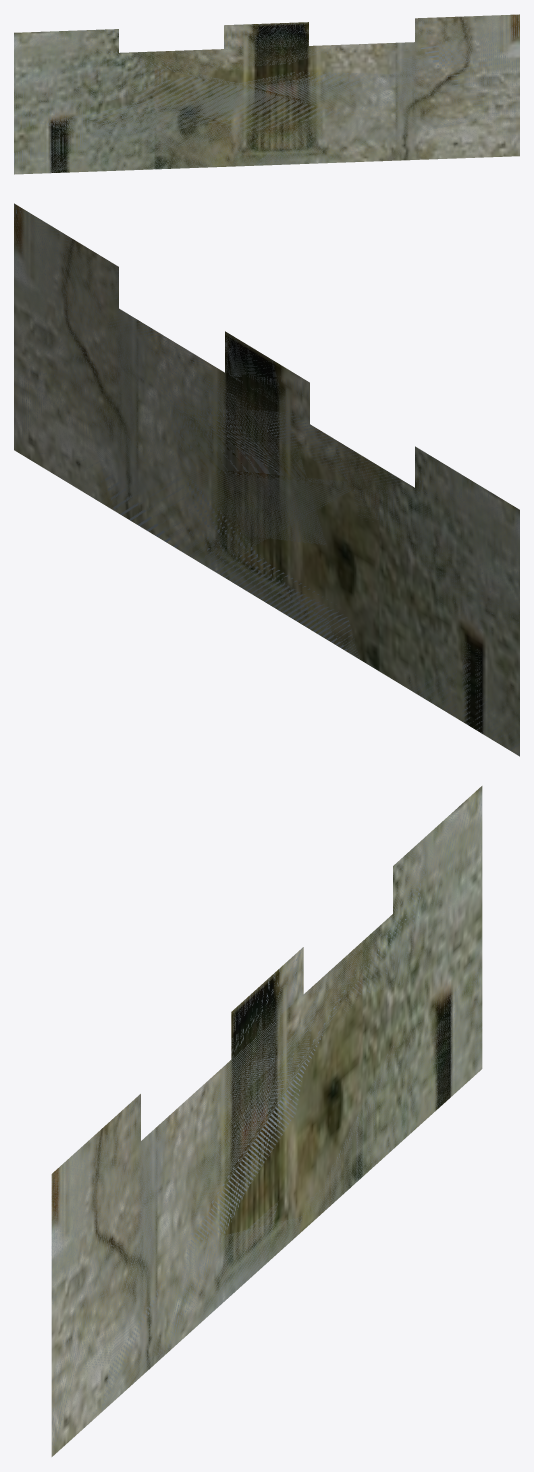
The model's file is 西庸城堡545.dae.
3 renders of one model, top to bottom at view 1: azimuth 30°, elevation 25°; view 2: azimuth 150°, elevation 25°; view 3: azimuth 270°, elevation 25°, orthographic. The views are drawn at different scales.
Parts seen in each view (by area): view 1: SketchUp; view 2: SketchUp; view 3: SketchUp.
Part boxes in pixels (<box>): SketchUp: <box>14,14,519,174</box>; SketchUp: <box>14,203,519,756</box>; SketchUp: <box>51,786,482,1456</box>.
Bounding box in the file's own units: 344 × 161 × 117.
